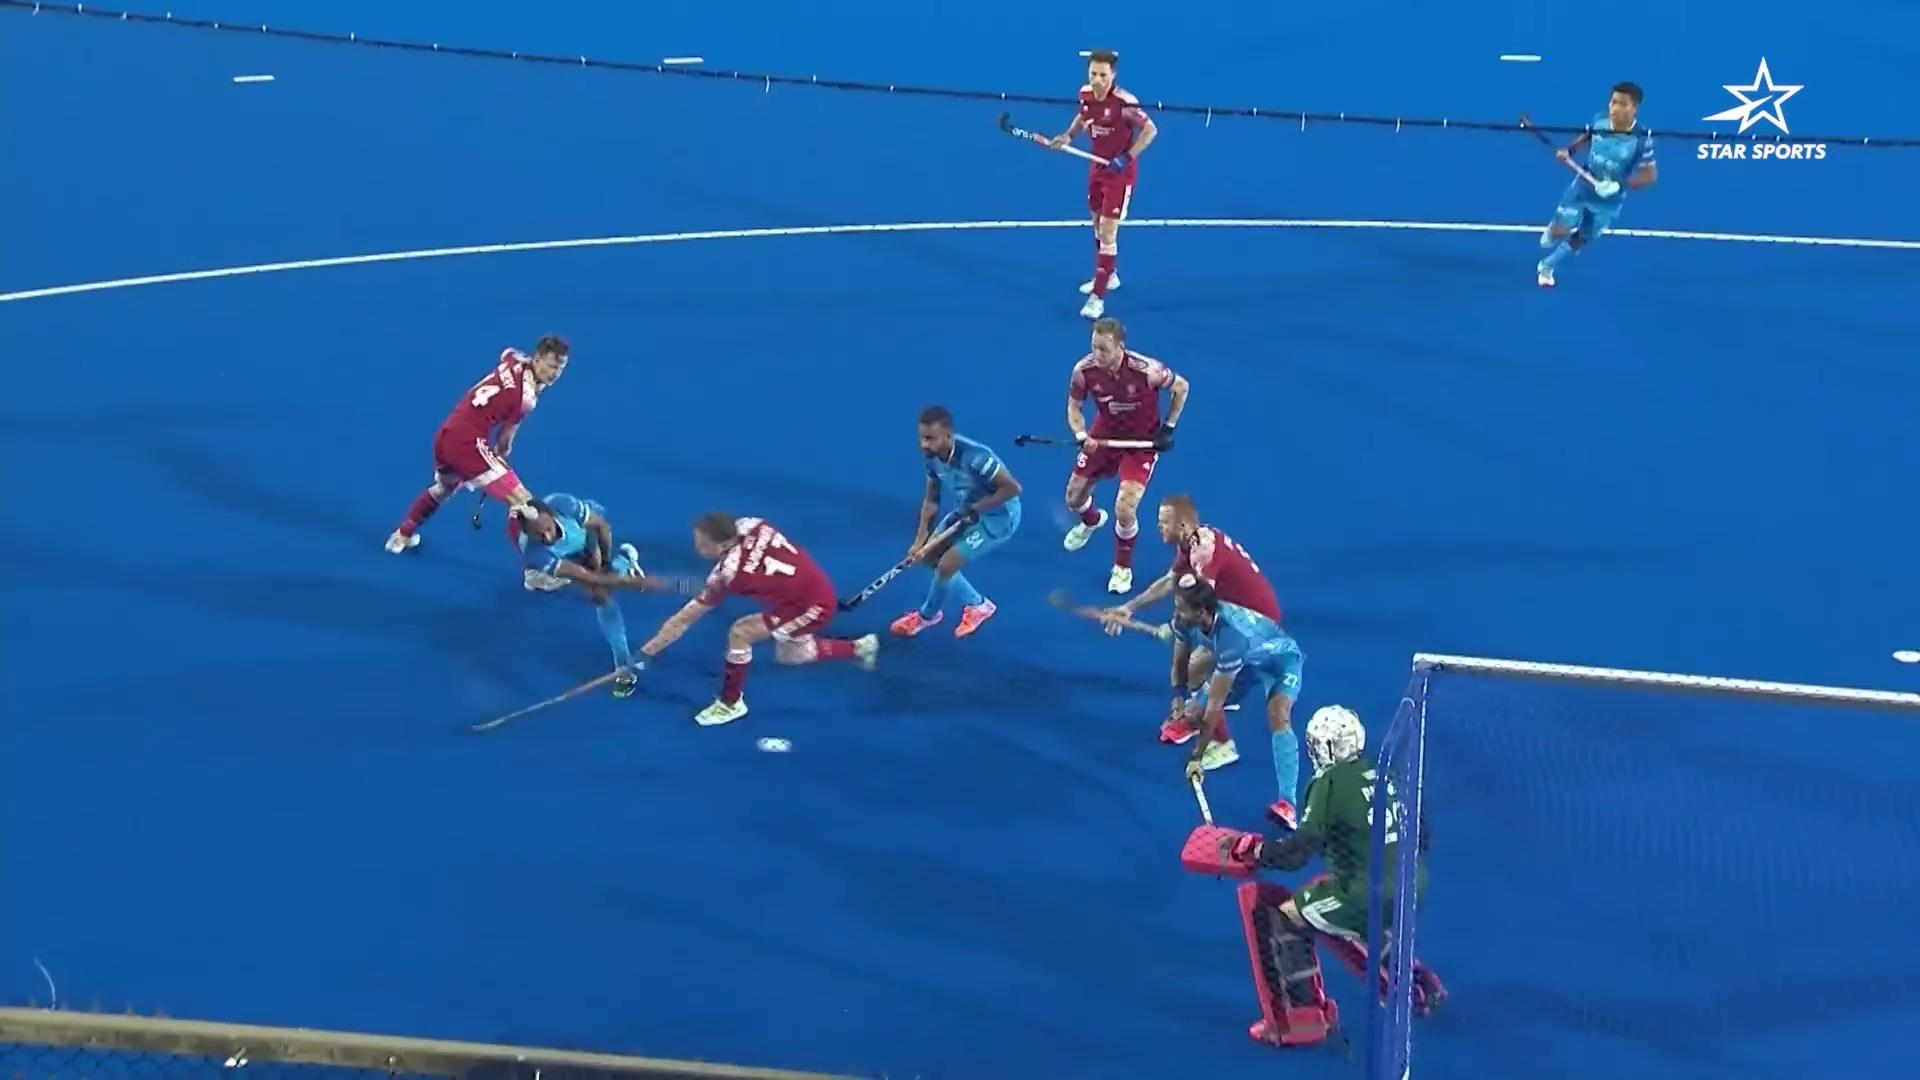ball: (756, 721, 798, 766)
